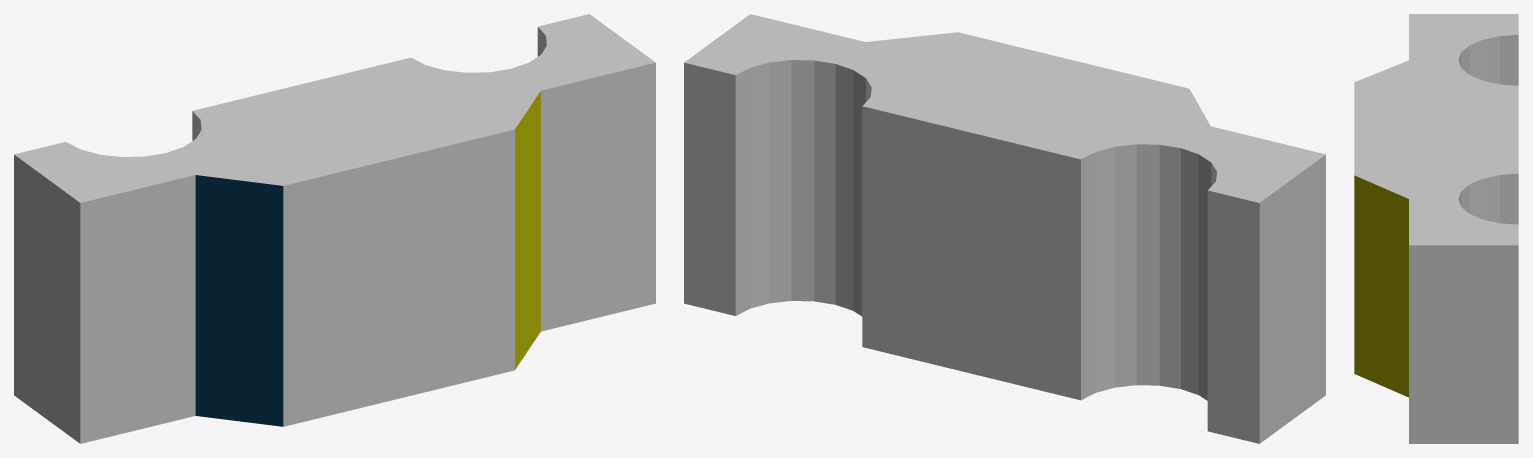
Rendered from carbody.dae.
3 views of the same model, side by side, from view 1: azimuth 30°, elevation 25°; view 2: azimuth 150°, elevation 25°; view 3: azimuth 270°, elevation 25° (orthographic). The views are drawn at different scales.
Visible parts, largest first — view 1: pCube5; view 2: pCube5; view 3: pCube5.
Boxes of the visible parts, x1,y1,x2,y2 form: pCube5: [14, 14, 655, 443]; pCube5: [684, 14, 1325, 443]; pCube5: [1354, 14, 1518, 443].
Bounding box in the file's own units: 5 × 2 × 1.5.
